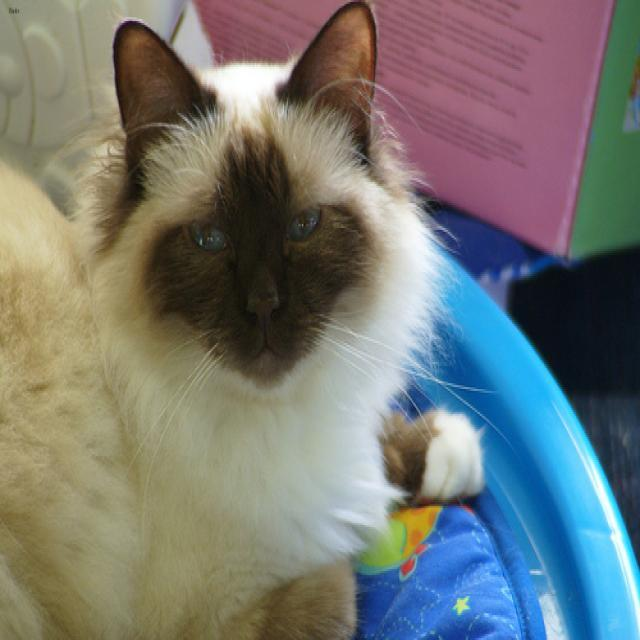Birman: (111, 0, 389, 402)
